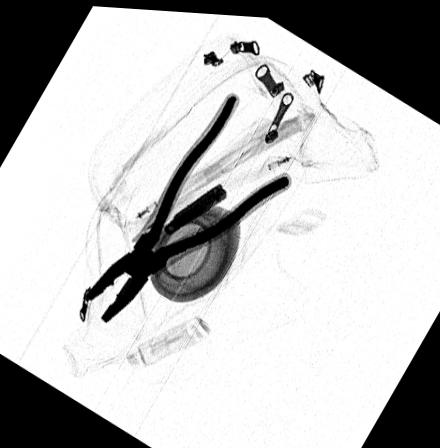Pliers: (83, 89, 289, 322)
